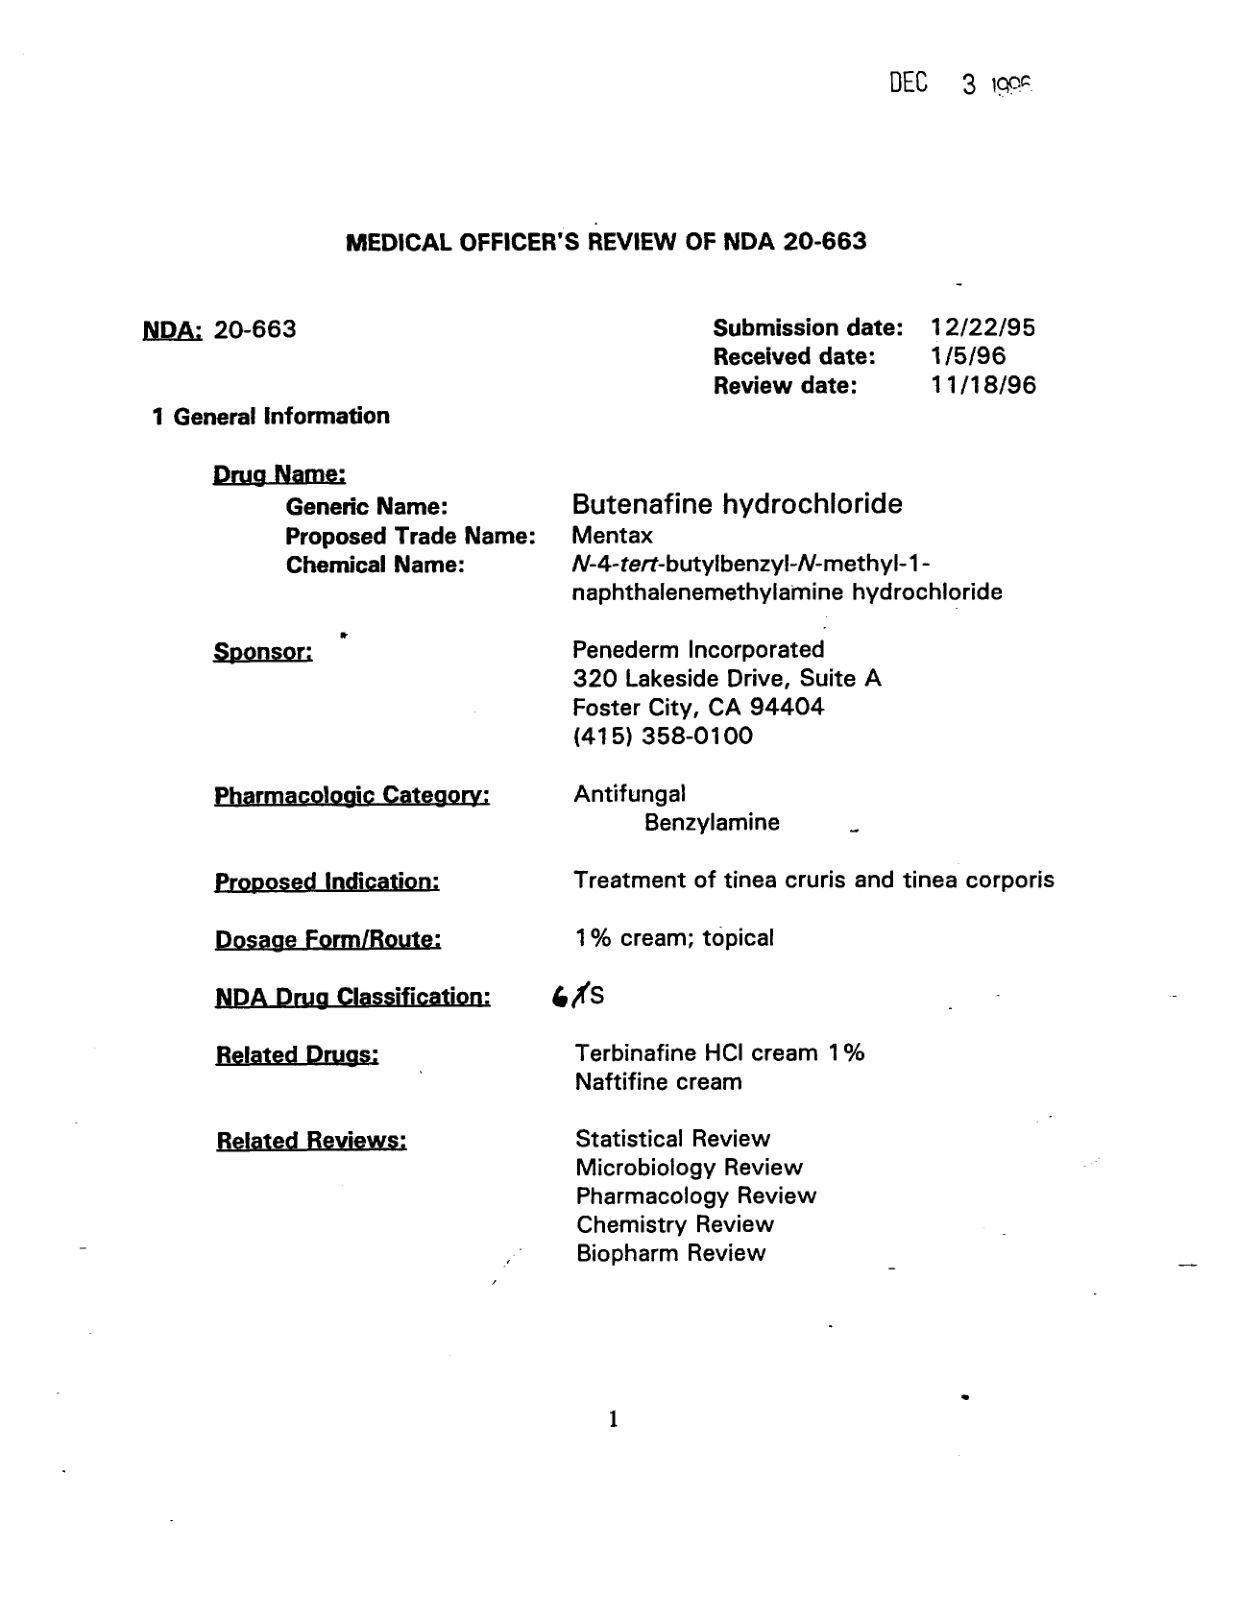nolines: (211, 462, 1059, 1269), (710, 316, 1039, 397)
